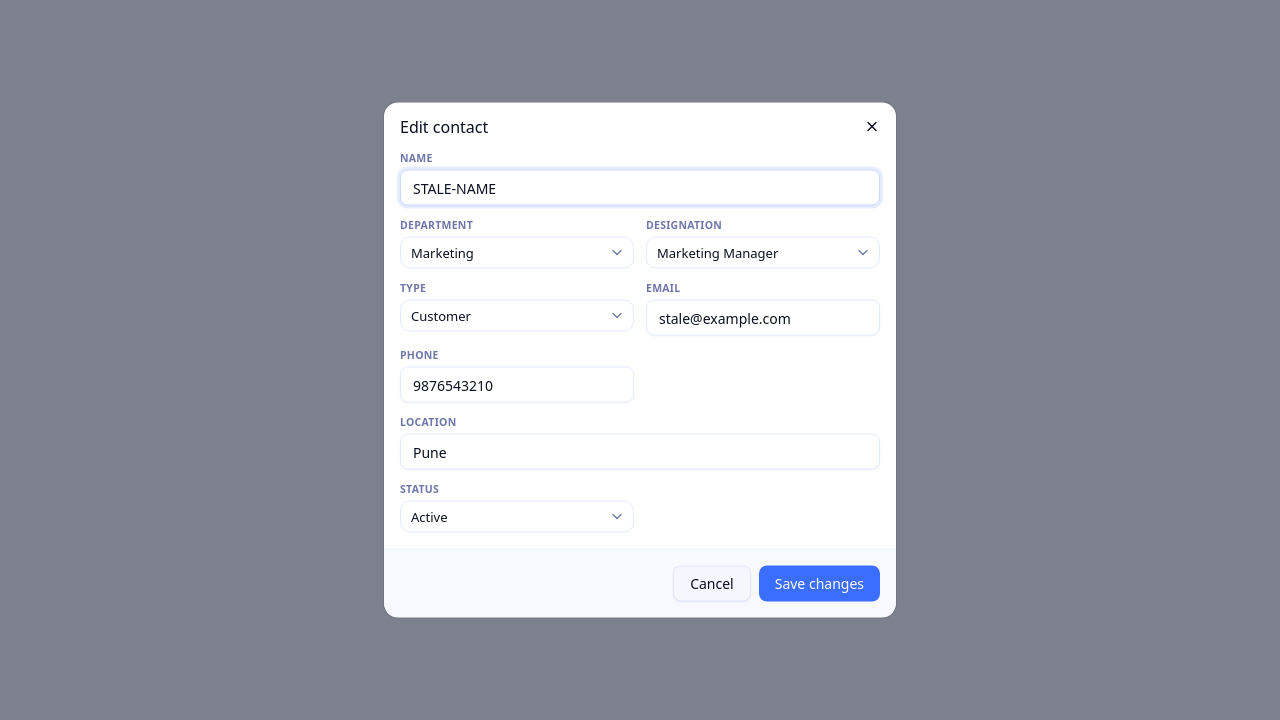
EditContactModal — partial update payload › changing department clears a now-invalid designation, and designation is disabled until a department is picked
Expected: the heading "Edit contact" is shown, left=400, top=116, right=488, bottom=138
Expected: the text "Marketing Manager" is shown, left=657, top=243, right=778, bottom=261
Click the text "Marketing" at (442, 252), box left=411, top=243, right=474, bottom=261
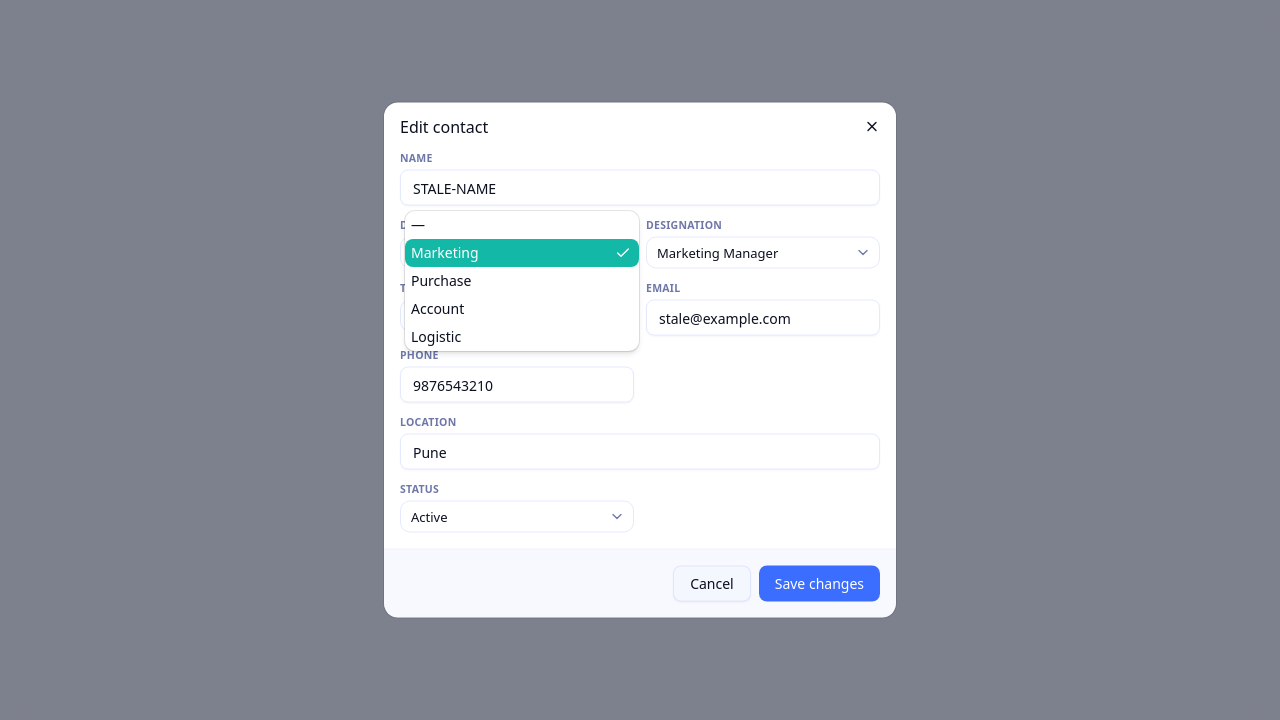
Click the option "Purchase" at (441, 280), box left=411, top=270, right=472, bottom=290
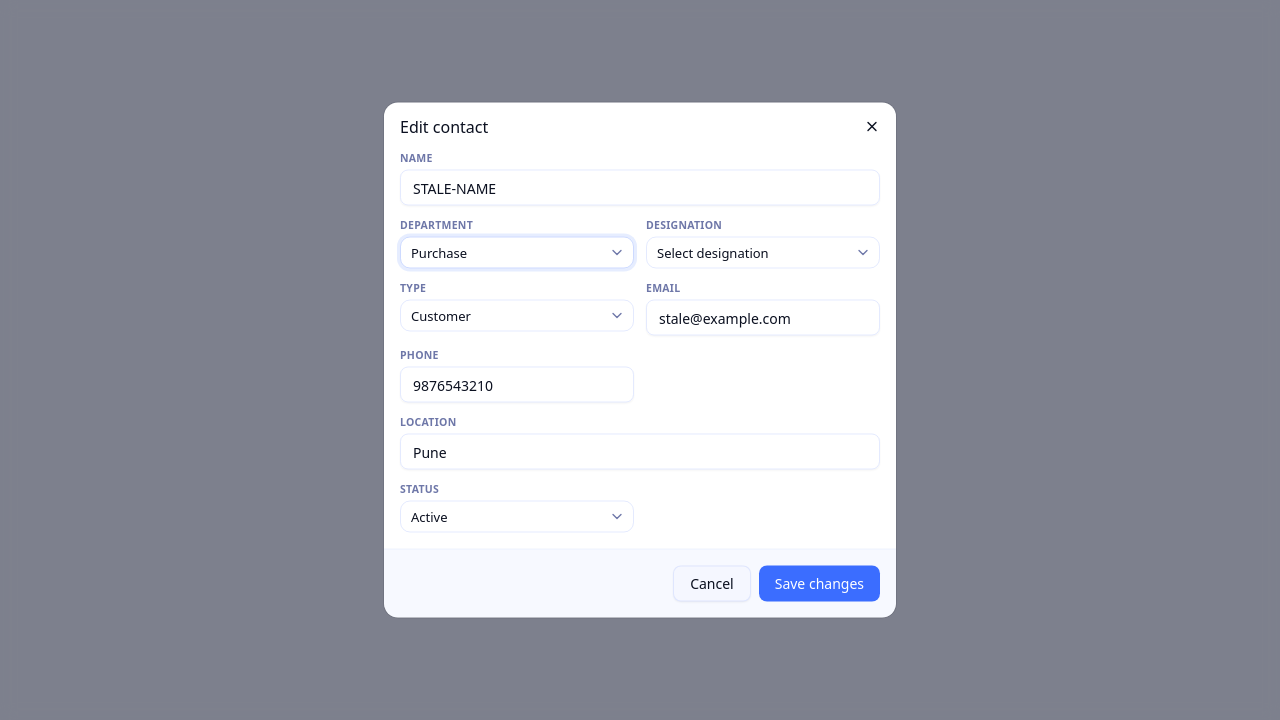
Expected: the text "Select designation" is shown, left=657, top=243, right=769, bottom=261
Expected: the dropdown "Marketing Manager" is gone
